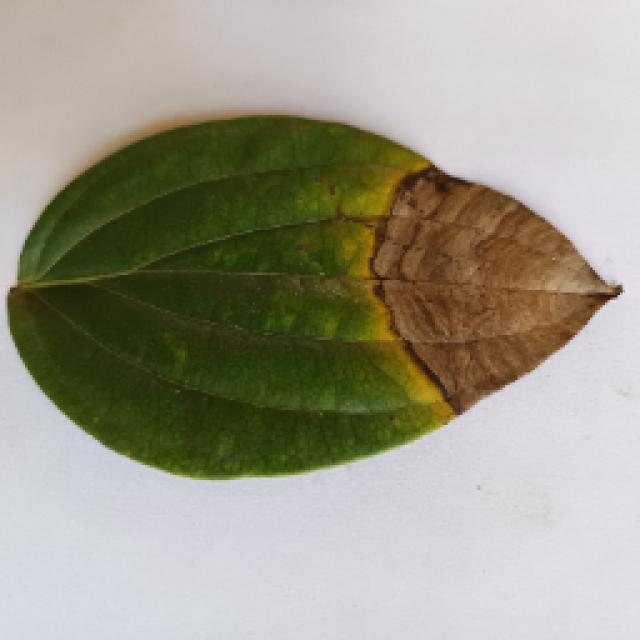footrot: (3, 113, 615, 475)
